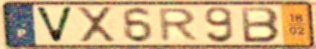6: (120, 5, 156, 44)
9: (204, 6, 236, 44)
B: (238, 5, 282, 44)
R: (158, 7, 201, 43)
V: (33, 5, 76, 44)
X: (75, 6, 119, 45)
